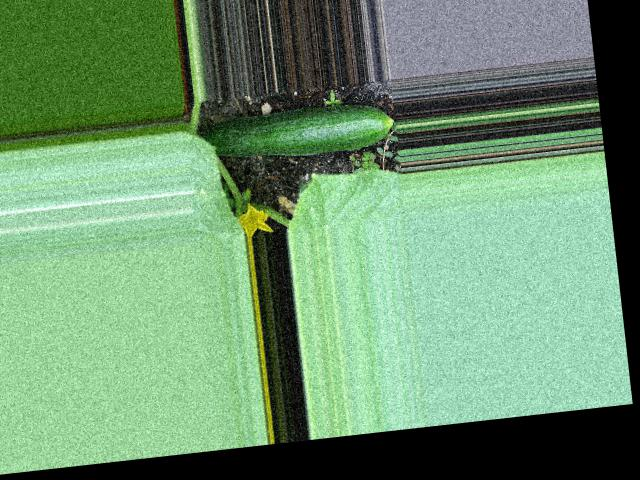cucumber: (201, 97, 397, 166)
